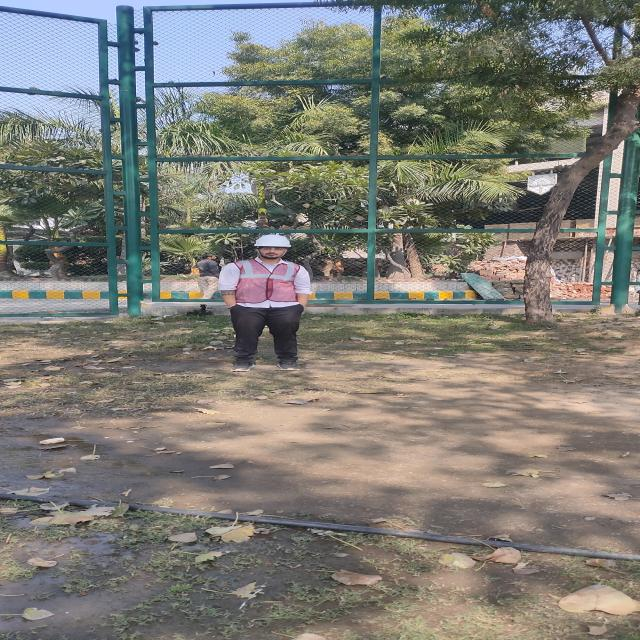safe: (220, 235, 311, 371)
unsafe: (197, 254, 218, 298)
